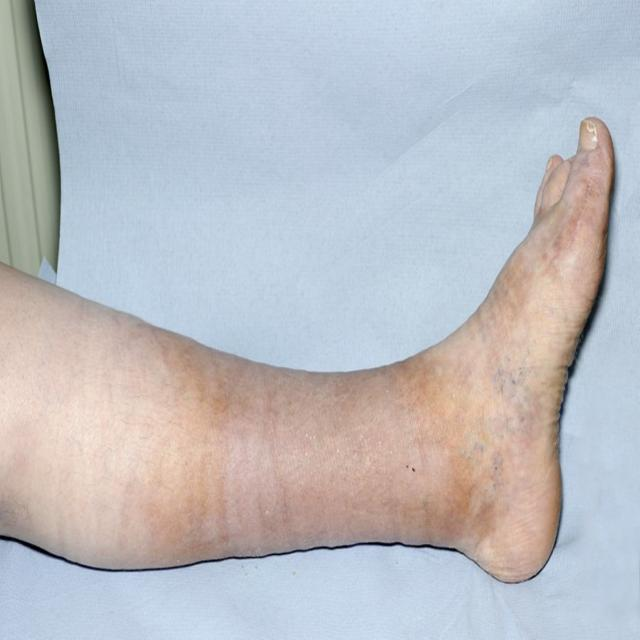wound: (229, 382, 496, 543), (584, 118, 598, 147)
